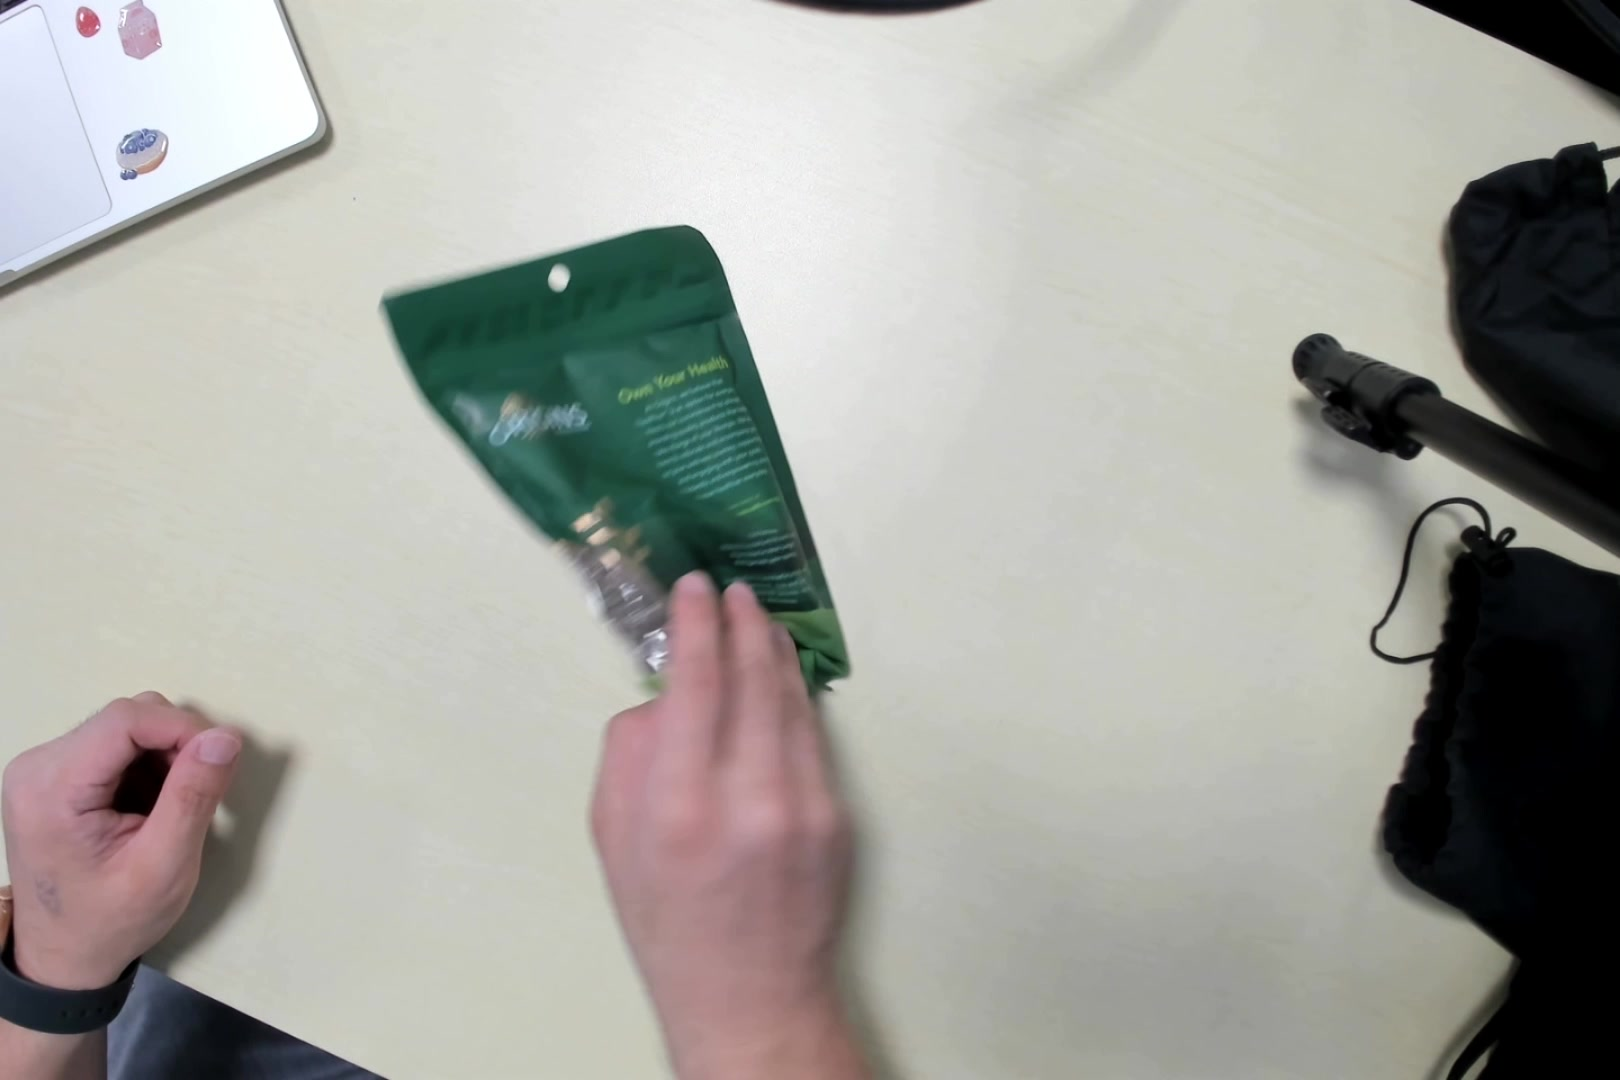OtherDriedFood_200-299g_NonHalal_NonHealthy: (395, 231, 851, 711)
